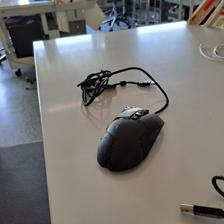mouse: (95, 105, 164, 174)
